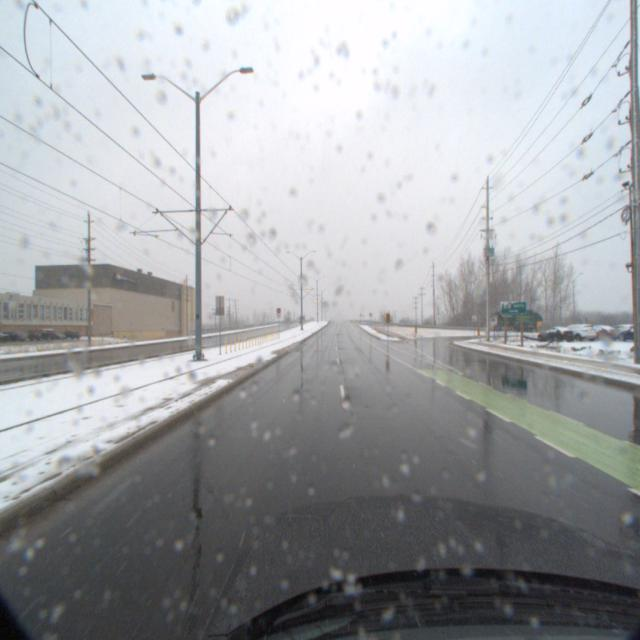Car: (556, 324, 602, 344), (578, 324, 626, 342), (537, 326, 580, 344)
Truck: (494, 307, 550, 331)
